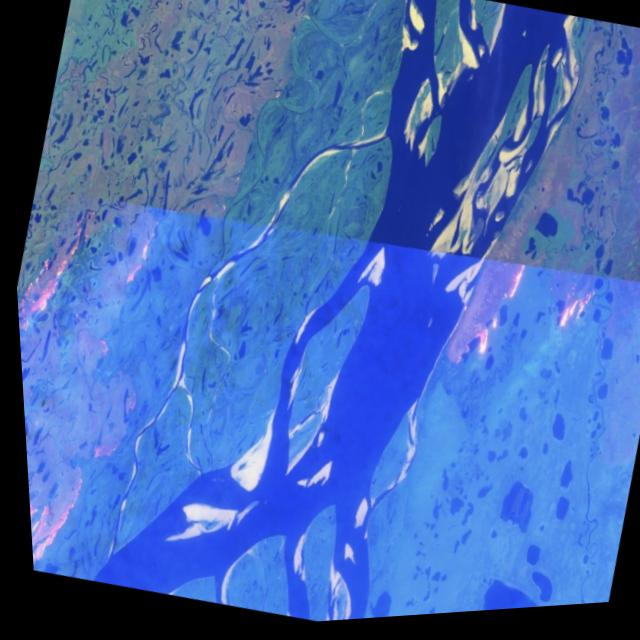fire: (10, 210, 86, 343)
